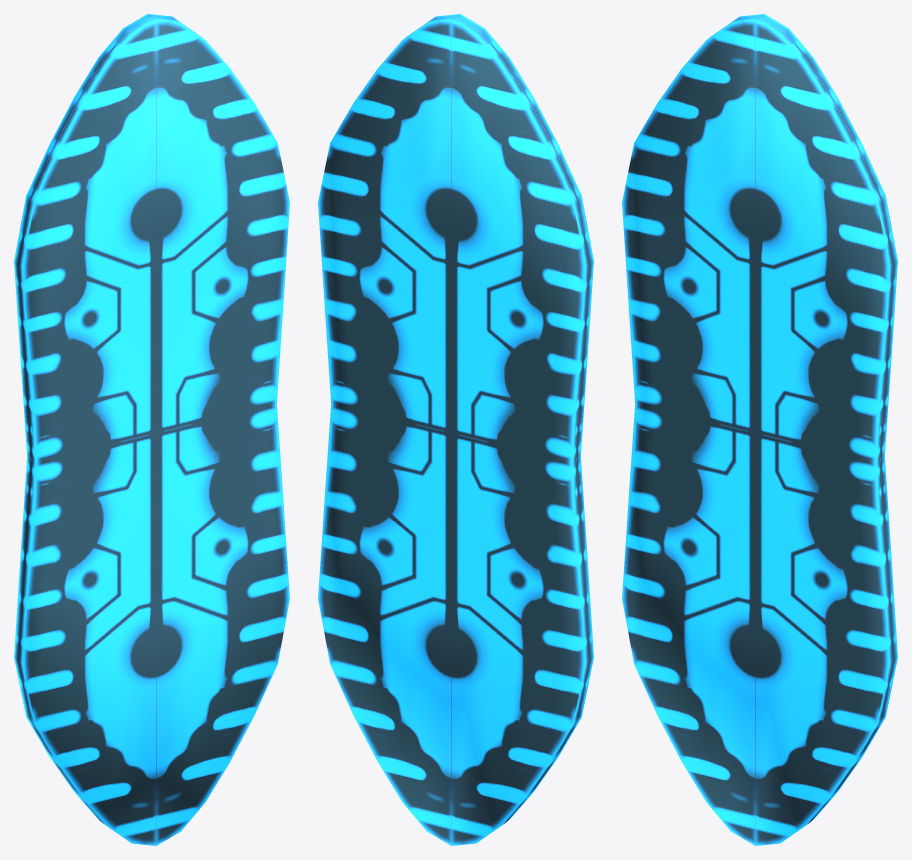
The model's file is energy_shield.glb.
3 views of the same model, side by side, from view 1: azimuth 30°, elevation 25°; view 2: azimuth 150°, elevation 25°; view 3: azimuth 330°, elevation 25° (orthographic).
Parts seen in each view (by area): view 1: BarrierShield_low; view 2: BarrierShield_low; view 3: BarrierShield_low.
Part boxes in pixels (bbox=[...]): BarrierShield_low: bbox=[14, 14, 289, 845]; BarrierShield_low: bbox=[318, 14, 593, 845]; BarrierShield_low: bbox=[622, 14, 897, 845].
Size of the model in its own units: 0.6775 by 2 by 0.0385.
Materials: 1 (1 with a texture image).
